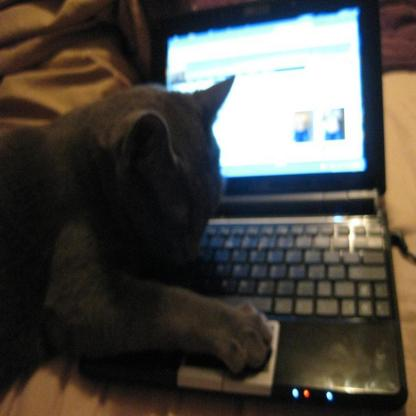board: (161, 22, 403, 416)
